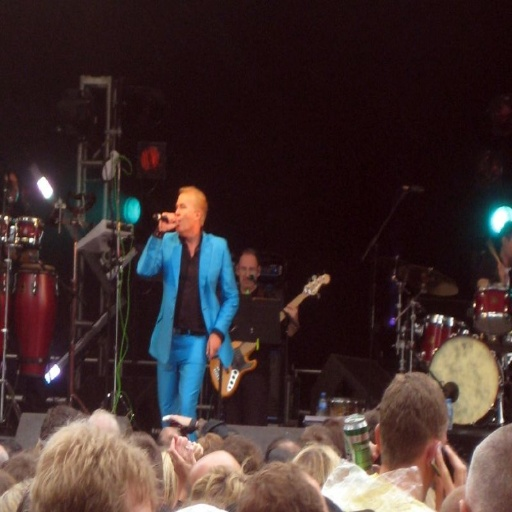hand: (433, 443, 466, 510), (167, 429, 197, 483), (204, 333, 223, 362), (172, 430, 190, 456), (158, 210, 178, 230), (496, 261, 509, 290), (283, 304, 300, 325), (188, 439, 203, 456), (475, 275, 491, 287), (369, 440, 378, 461)
